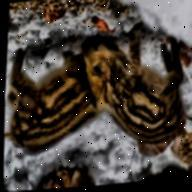boar: (75, 17, 192, 156), (2, 39, 108, 159)
